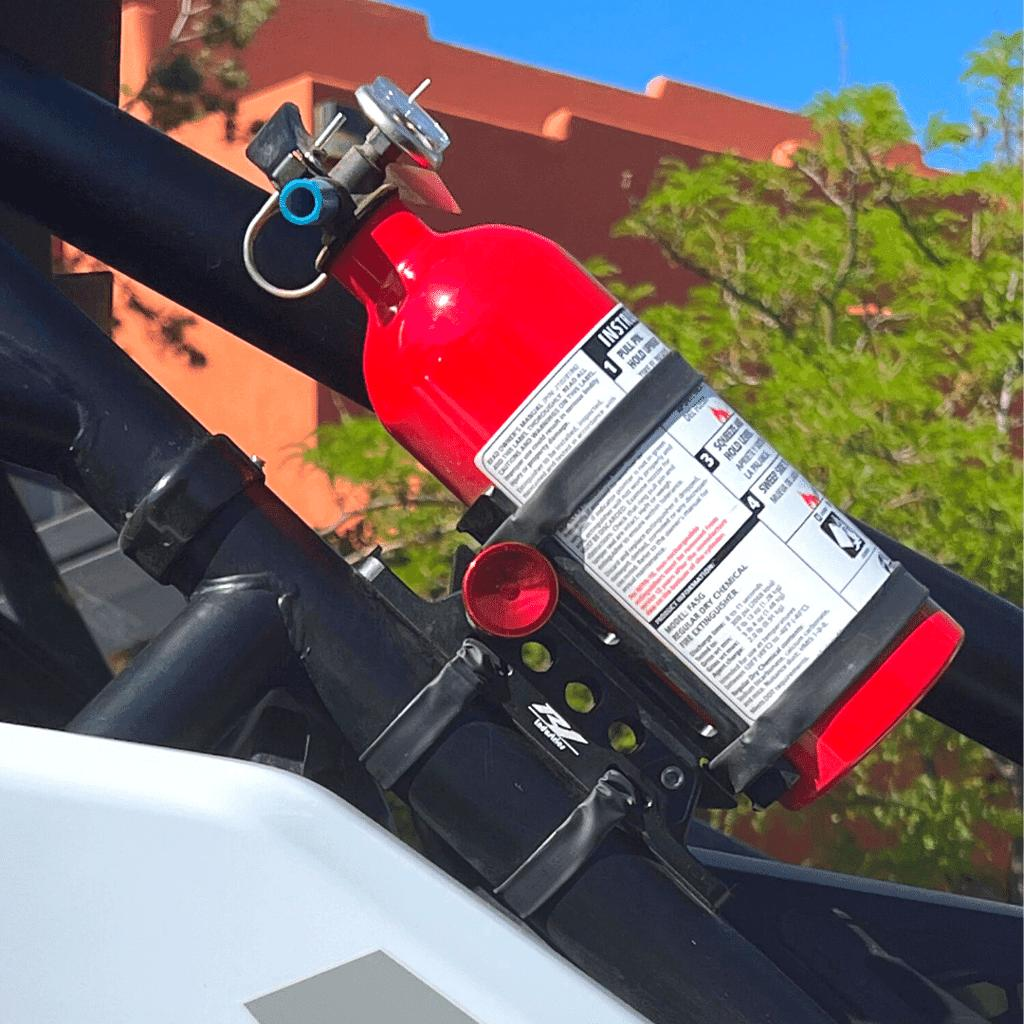Fire Extinguisher: (245, 58, 982, 832)
